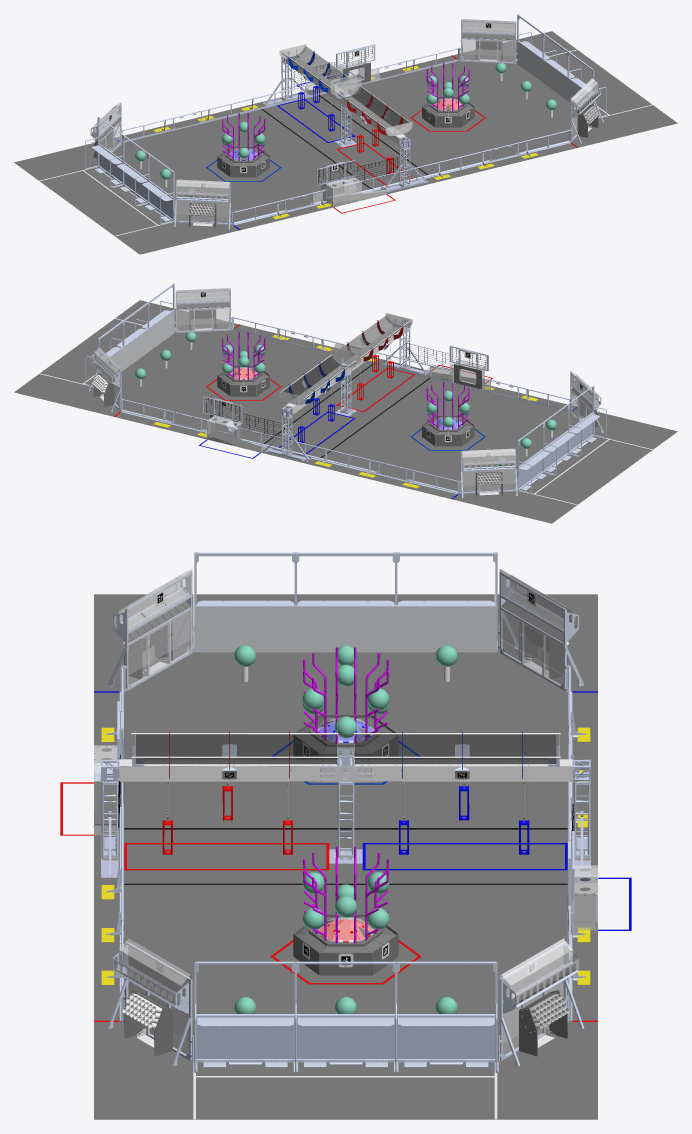
3 renders of one model, top to bottom at view 1: azimuth 30°, elevation 25°; view 2: azimuth 150°, elevation 25°; view 3: azimuth 270°, elevation 25°, orthographic. The views are drawn at different scales.
Parts seen in each view (by area): view 1: carpet (×2), GE-25228 (×2), GE-25008 (×2), GE-25009 (×2), FE-00004-01 (×2), GE-25207 (×2), GE-25021 (×2), GE-25112, GE-25007, FE-01003; view 2: carpet (×2), GE-25228 (×2), GE-25008 (×2), GE-25009 (×2), FE-00004-01 (×2), GE-25207 (×2), GE-25021 (×2), FE-01003 (×2), GE-25112, GE-25007; view 3: carpet (×2), FE-00004-01 (×6), GE-25228 (×2), GE-25009 (×4), GE-25008 (×2), GE-25021 (×4), GE-25223 (×4), FE-00004-06 (×3), GE-25007 (×2), GE-25014 (×2), GE-25302, GE-25105 (+1 smaller).
Part boxes in pixels (bbox=[...]): carpet (×2): bbox=[14, 31, 677, 254]; GE-25228 (×2): bbox=[282, 46, 408, 128]; GE-25008 (×2): bbox=[177, 38, 516, 216]; GE-25009 (×2): bbox=[175, 19, 516, 192]; FE-00004-01 (×2): bbox=[517, 42, 567, 100]; GE-25207 (×2): bbox=[330, 74, 361, 98]; GE-25021 (×2): bbox=[176, 179, 229, 195]; GE-25112: bbox=[333, 182, 361, 207]; GE-25007: bbox=[461, 54, 515, 63]; FE-01003: bbox=[399, 146, 410, 186]; carpet (×2): bbox=[14, 300, 677, 523]; GE-25228 (×2): bbox=[283, 315, 409, 397]; GE-25008 (×2): bbox=[175, 307, 514, 485]; GE-25009 (×2): bbox=[175, 288, 516, 461]; FE-00004-01 (×2): bbox=[124, 311, 174, 369]; GE-25207 (×2): bbox=[330, 343, 361, 367]; GE-25021 (×2): bbox=[462, 448, 515, 464]; FE-01003 (×2): bbox=[281, 372, 351, 455]; GE-25112: bbox=[207, 421, 235, 446]; GE-25007: bbox=[176, 323, 230, 332]; carpet (×2): bbox=[94, 594, 597, 1119]; FE-00004-01 (×6): bbox=[195, 607, 496, 1058]; GE-25228 (×2): bbox=[135, 735, 556, 764]; GE-25009 (×4): bbox=[127, 569, 564, 1003]; GE-25008 (×2): bbox=[127, 607, 564, 675]; GE-25021 (×4): bbox=[118, 939, 573, 998]; GE-25223 (×4): bbox=[169, 766, 522, 781]; FE-00004-06 (×3): bbox=[197, 1017, 494, 1026]; GE-25007 (×2): bbox=[127, 638, 564, 690]; GE-25014 (×2): bbox=[114, 590, 577, 642]; GE-25302: bbox=[320, 952, 371, 975]; GE-25105: bbox=[572, 894, 597, 930].
Size of what is drawn, in the model's own units: 22.56 by 2.57 by 10.37.
